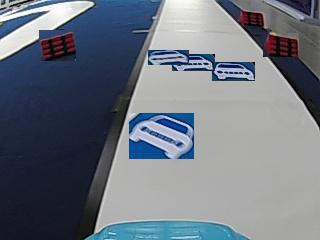bomb: (238, 10, 264, 25)
